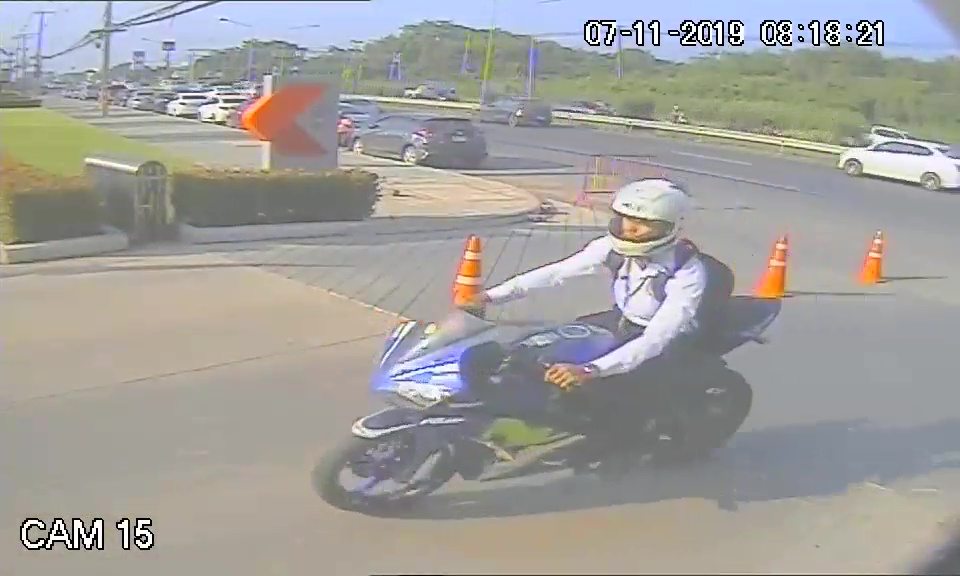motorcycle: (313, 296, 779, 510)
